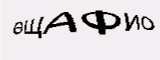Е: (67, 11, 81, 32)
Н: (35, 15, 52, 36)
П: (100, 12, 120, 35)
Т: (83, 10, 99, 34)
Э: (48, 12, 63, 36)
